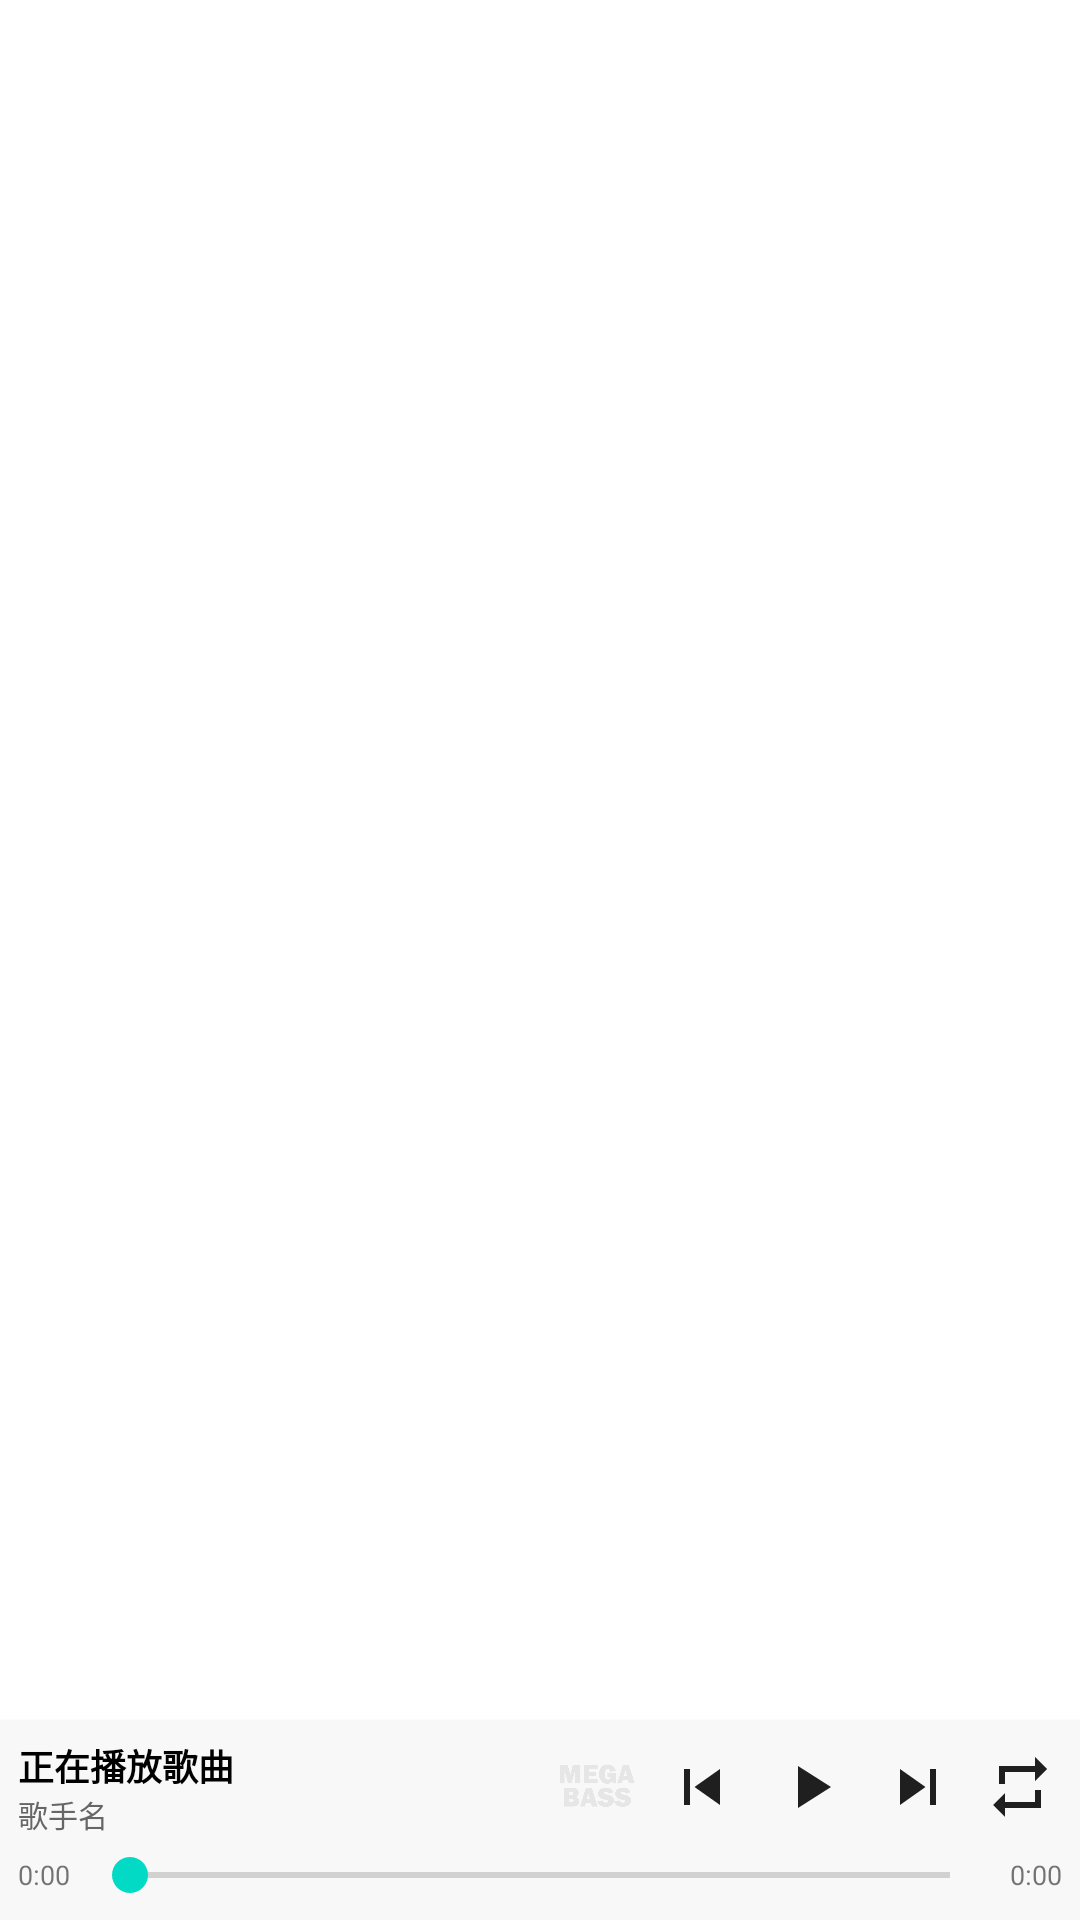

Screen size 1080 x 1920. Icon name, then its box in pixels as (x1, y1, x2, y2):
list loop: (993, 1757, 1047, 1817)
souko next: (900, 1769, 936, 1805)
souko play: (798, 1766, 831, 1808)
souko prev: (684, 1769, 720, 1805)
